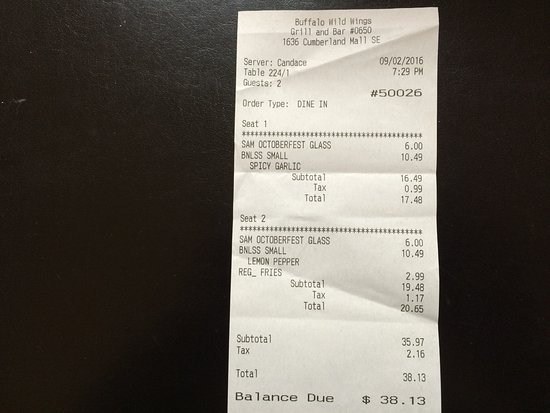Purchase summary: (231, 52, 436, 408)
Receipt: (222, 8, 445, 413)
Shop details: (262, 14, 412, 49)
